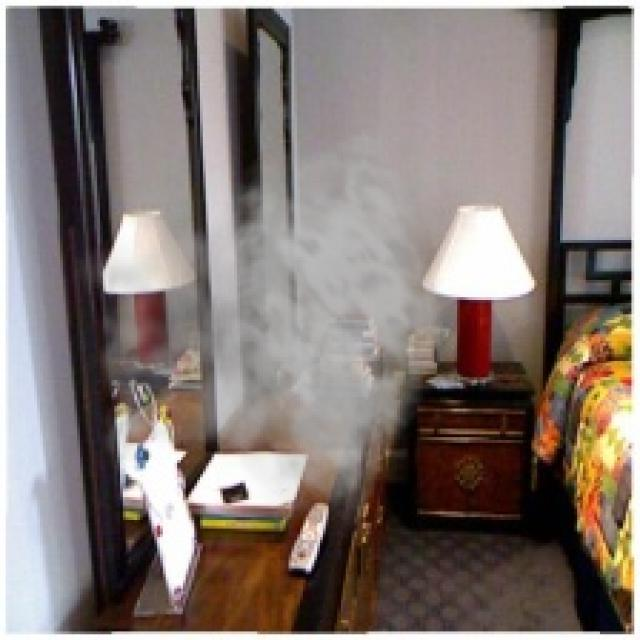smoke: (66, 129, 446, 537)
